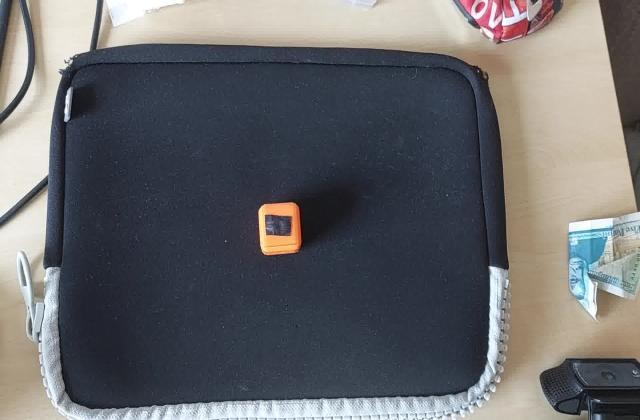black: (262, 213, 294, 240)
sticker: (254, 201, 303, 258)
